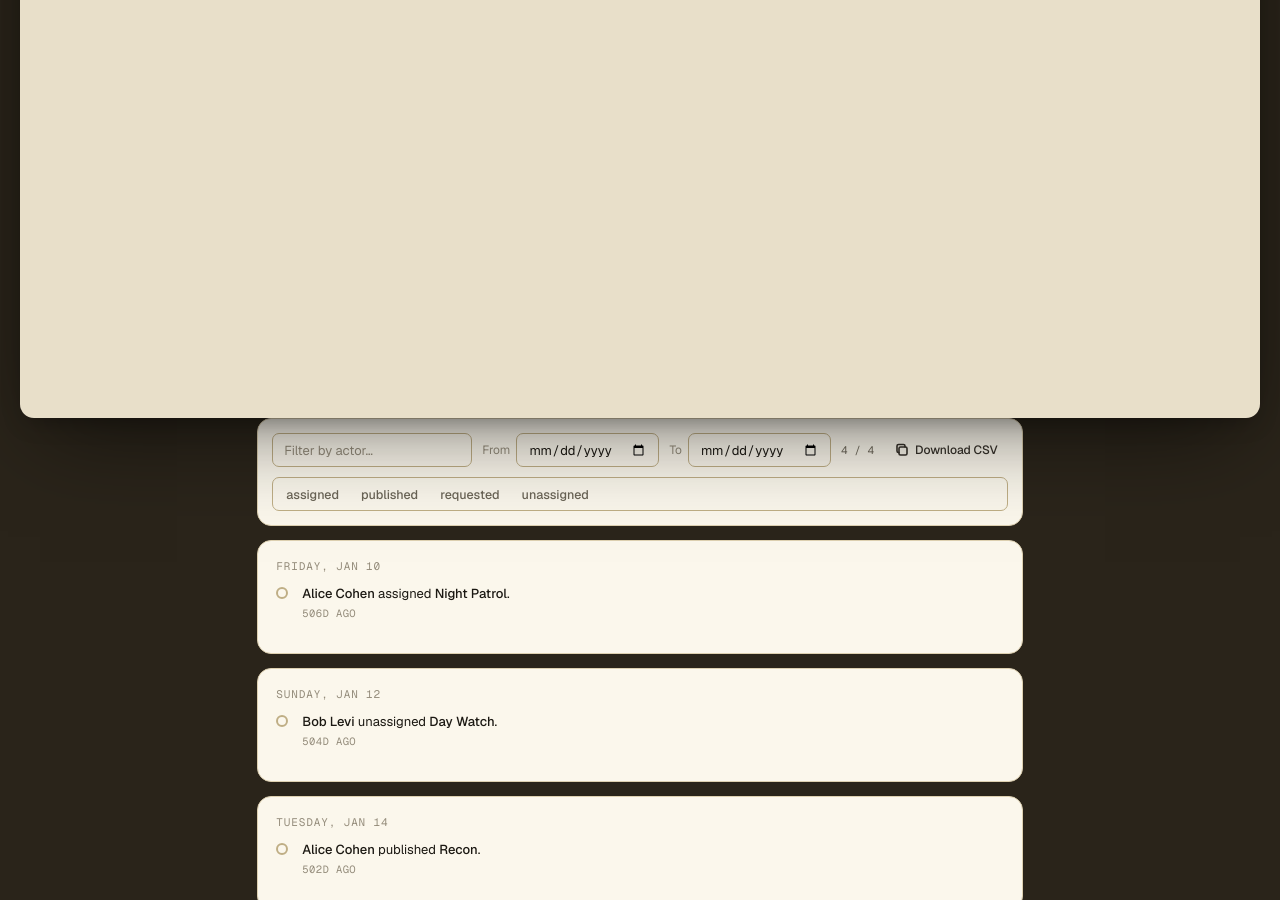
Scenario: ActivityScreen › shows "Clear" button only when filters are active, and it resets them
(page scrolled)
Expected: the text "Clear" is not shown
Type "bob" into the field labelled "Filter by actor…". click: (372, 450)
box: x1=272 y1=433 x2=472 y2=467
(page scrolled)
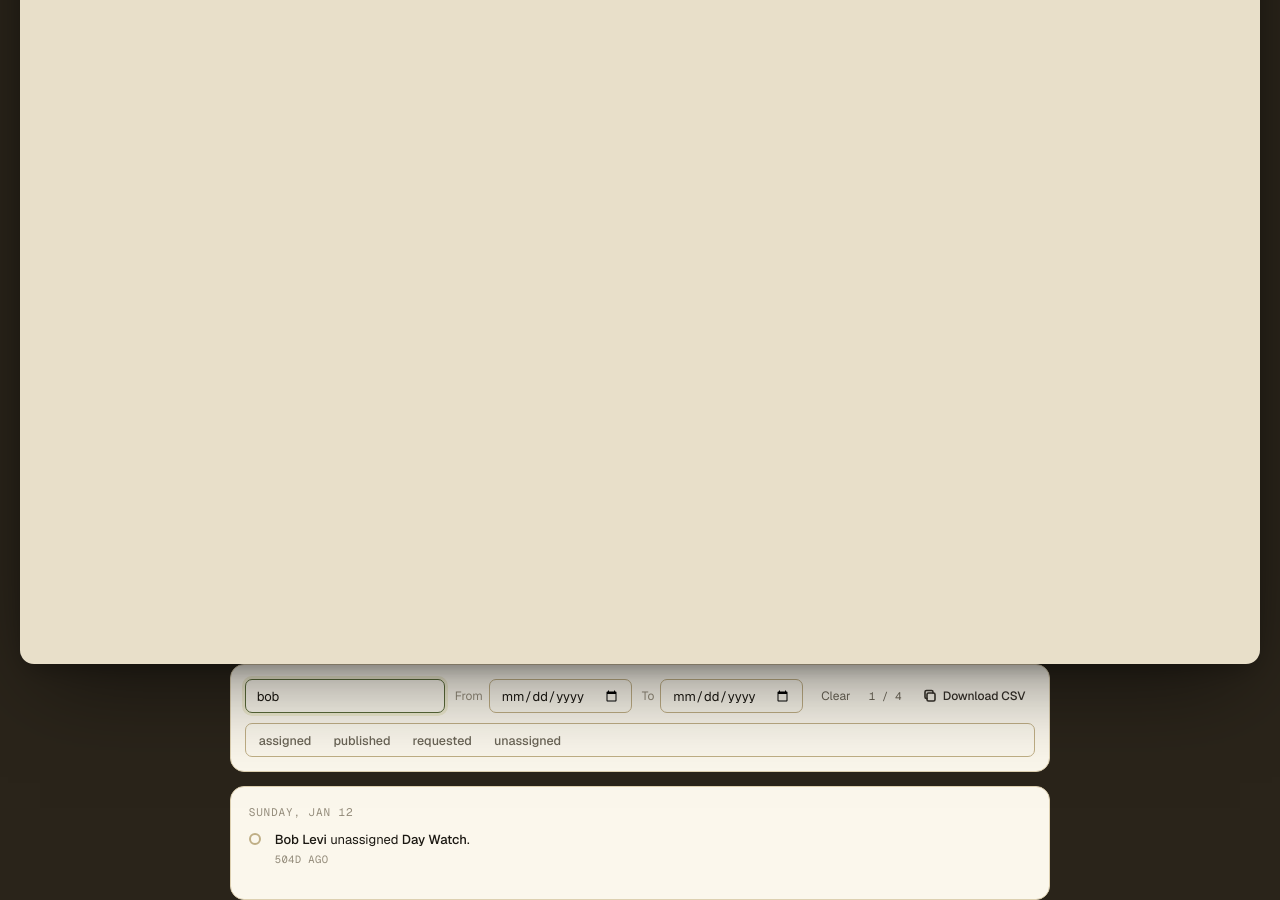
Result: the text "1 / 4" is shown at x1=869 y1=689 x2=902 y2=703
Click the button "Clear". click: (836, 696)
box: x1=813 y1=684 x2=859 y2=708
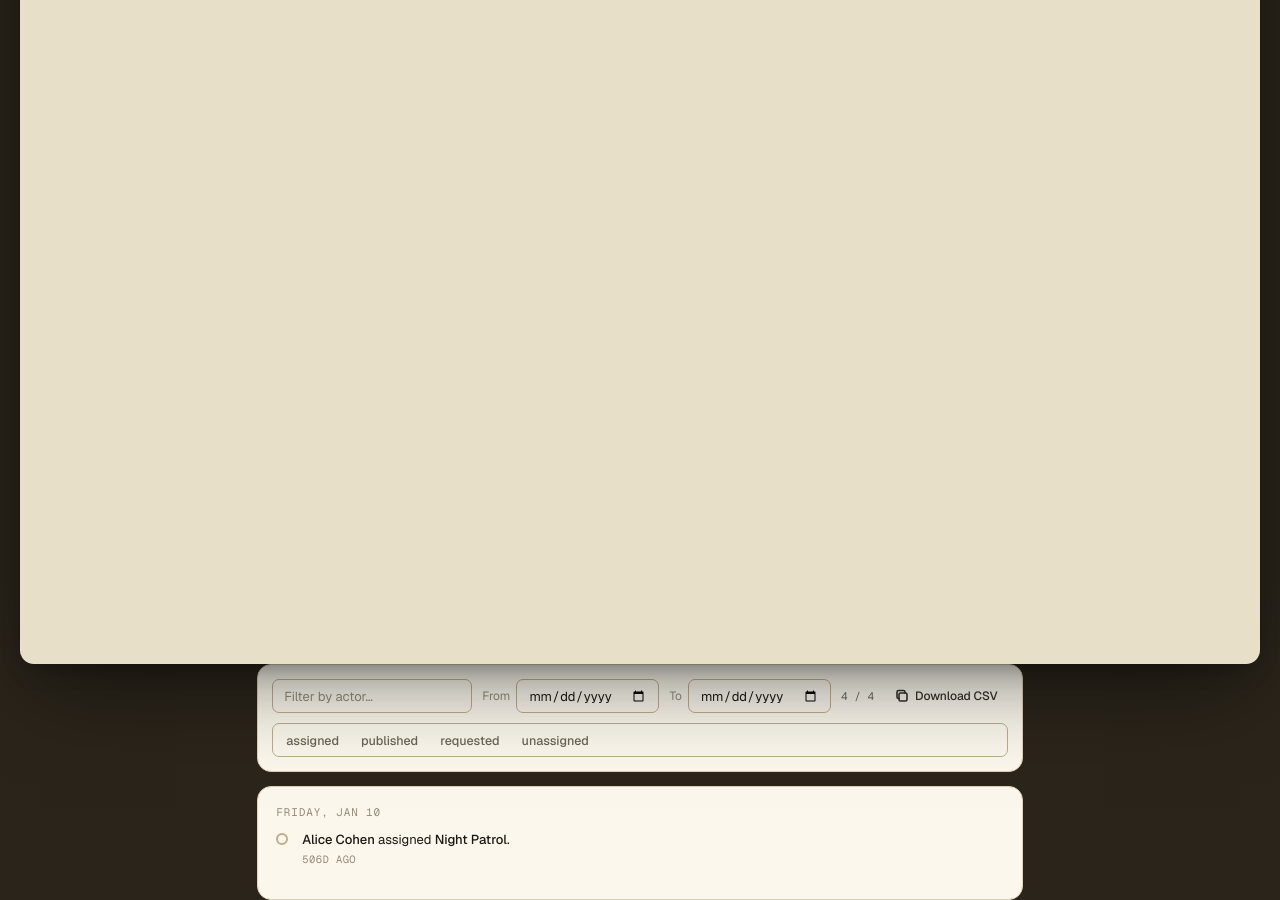
Result: the text "4 / 4" is shown at x1=841 y1=689 x2=874 y2=703
